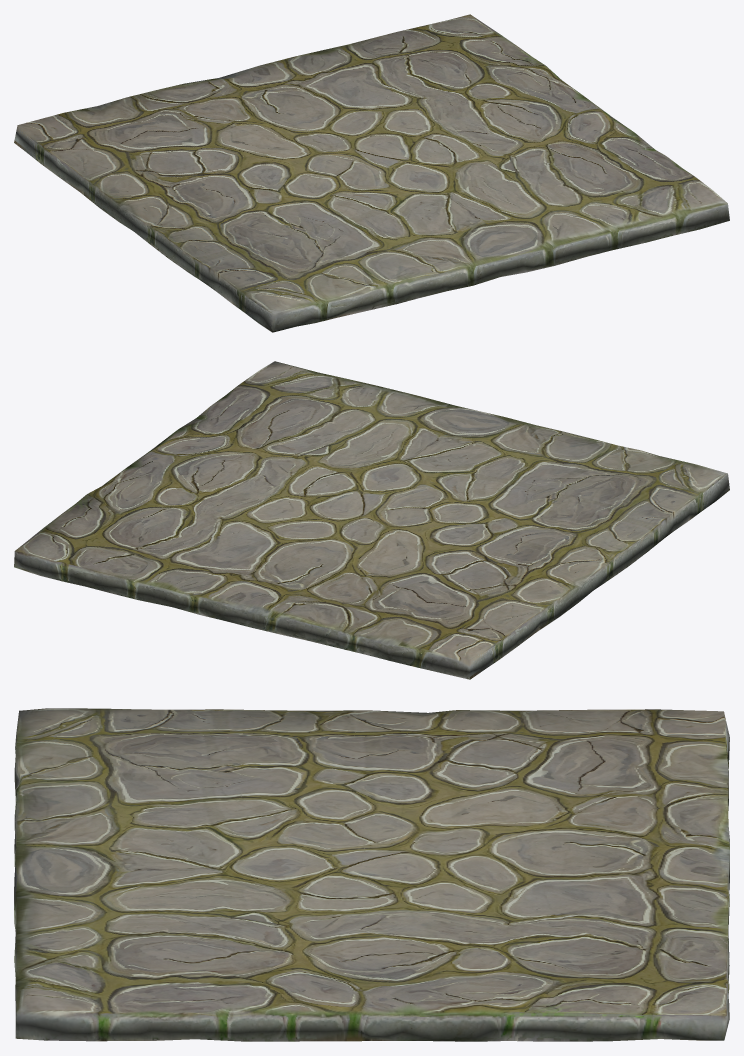
The model's file is Tile_Floor.fbx.
The picture shows the model from 3 angles, top to bottom: view 1: azimuth 30°, elevation 25°; view 2: azimuth 150°, elevation 25°; view 3: azimuth 270°, elevation 25°; orthographic projection. The views are drawn at different scales.
Visible parts, largest first — view 1: texture_mapping; view 2: texture_mapping; view 3: texture_mapping.
Boxes of the visible parts, x1,y1,x2,y2 form: texture_mapping: [14, 14, 729, 332]; texture_mapping: [14, 361, 729, 679]; texture_mapping: [14, 708, 729, 1041].
Bounding box in the file's own units: 1 × 0.9845 × 0.059.
Materials: 1 (1 with a texture image).
